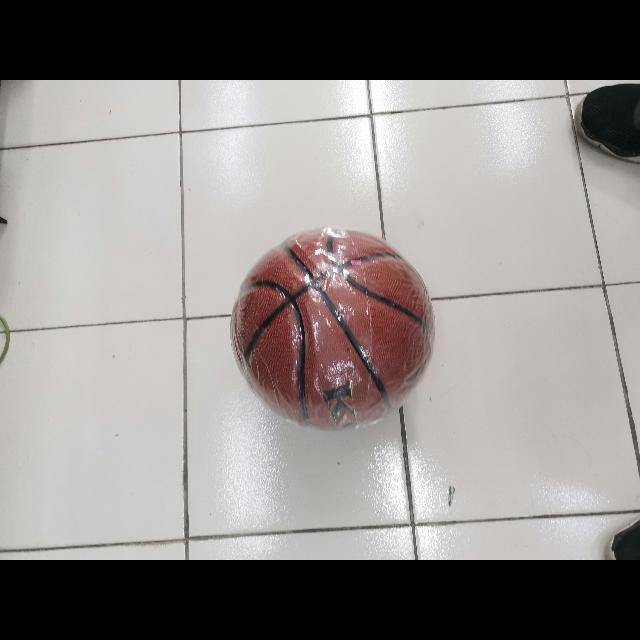basketball: (233, 229, 432, 426)
